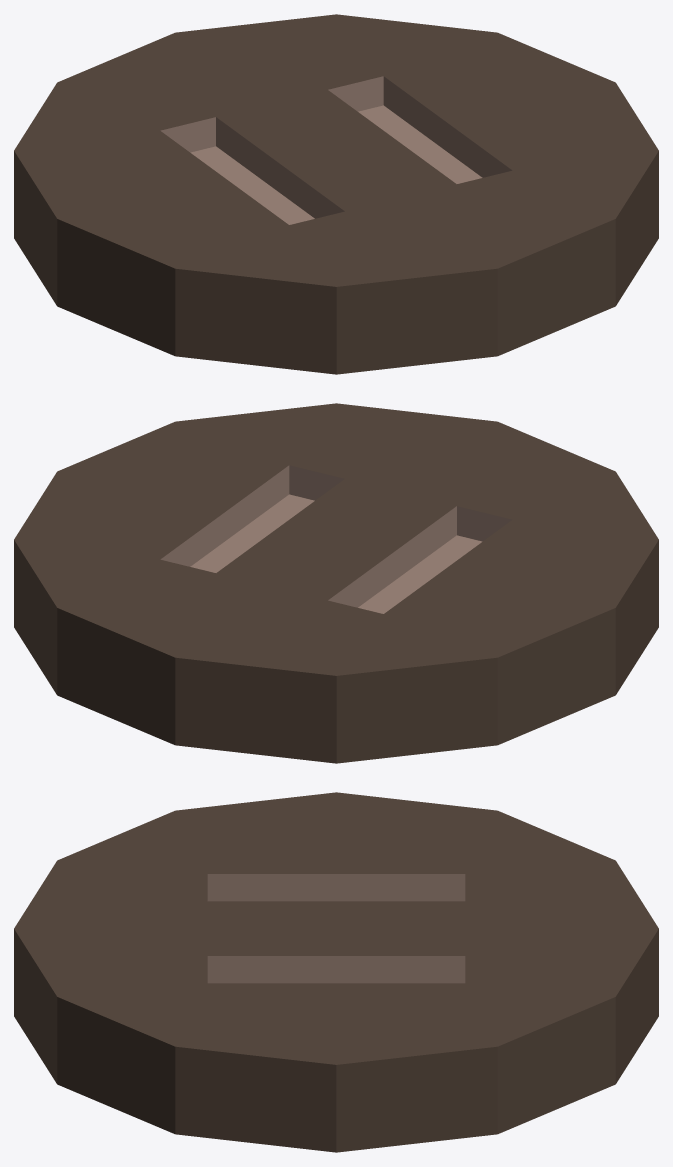
The model's file is Token2.fbx.
3 views of the same model, one above another, from view 1: azimuth 30°, elevation 25°; view 2: azimuth 150°, elevation 25°; view 3: azimuth 270°, elevation 25° (orthographic).
Visible parts, largest first — view 1: Token 2; view 2: Token 2; view 3: Token 2.
Boxes of the visible parts, x1,y1,x2,y2 form: Token 2: [14, 14, 658, 374]; Token 2: [14, 403, 658, 763]; Token 2: [14, 792, 658, 1152].
Size of the model in its own units: 100 by 15 by 100.
